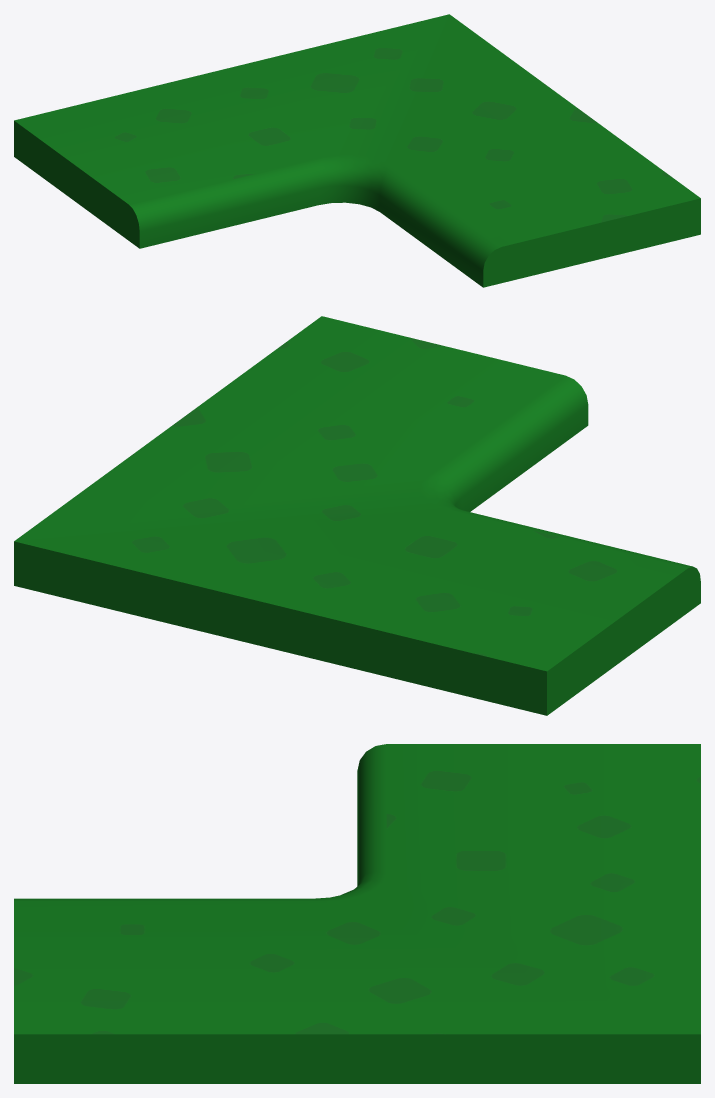
Rendered from GF_ICorner_3_3.glb.
3 renders of one model, top to bottom at view 1: azimuth 30°, elevation 25°; view 2: azimuth 150°, elevation 25°; view 3: azimuth 270°, elevation 25°, orthographic. The views are drawn at different scales.
Visible parts, largest first — view 1: GF_ICorner_3_3; view 2: GF_ICorner_3_3; view 3: GF_ICorner_3_3.
Boxes of the visible parts, <box> form: GF_ICorner_3_3: <box>14,14,700,287</box>; GF_ICorner_3_3: <box>14,316,700,715</box>; GF_ICorner_3_3: <box>14,744,700,1083</box>.
Size of the model in its own units: 4 by 0.3187 by 4.
Materials: 1 (1 with a texture image).
